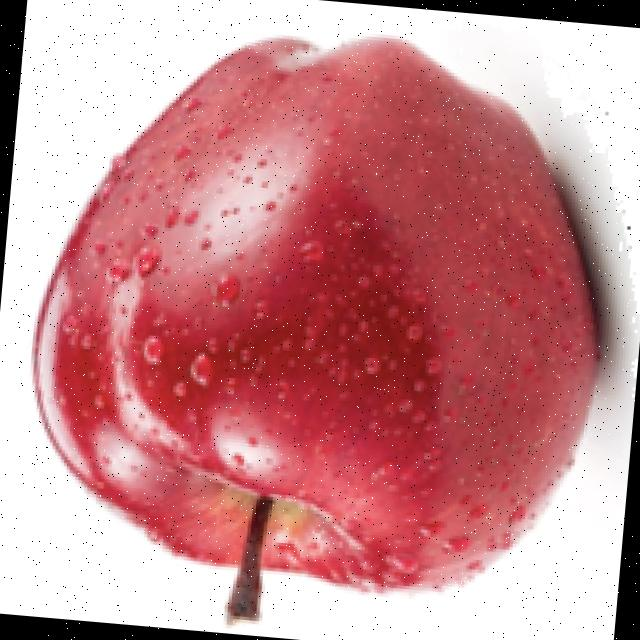apple: (26, 32, 639, 601)
